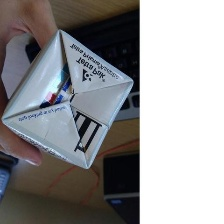carton: (0, 27, 133, 170)
